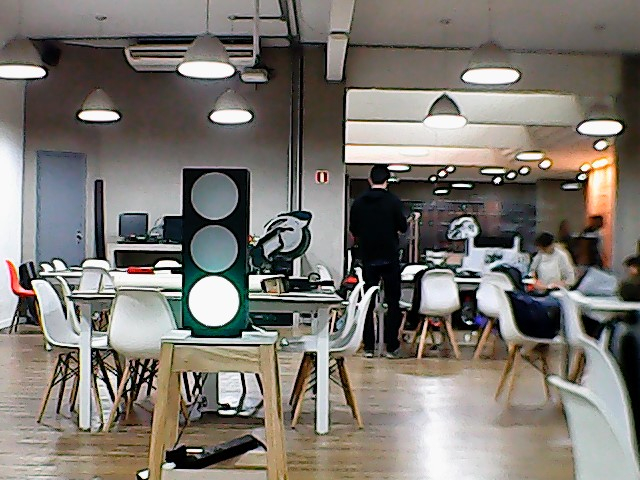verde: (179, 165, 255, 342)
